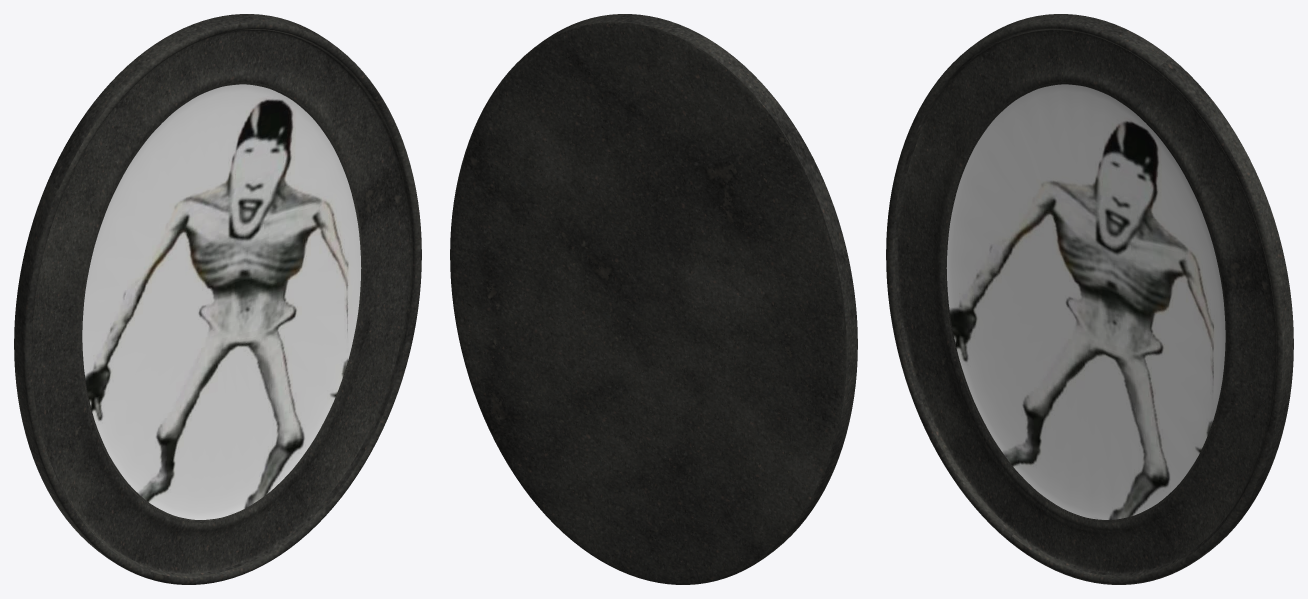
Rendered from A_PZ_PICTURE3_.fbx.
3 views of the same model, side by side, from view 1: azimuth 30°, elevation 25°; view 2: azimuth 150°, elevation 25°; view 3: azimuth 330°, elevation 25° (orthographic).
Visible parts, largest first — view 1: PZ_PICTURE3*; view 2: PZ_PICTURE3*; view 3: PZ_PICTURE3*.
Boxes of the visible parts, left/top/right/bottom form: PZ_PICTURE3*: left=14, top=14, right=421, bottom=584; PZ_PICTURE3*: left=450, top=14, right=857, bottom=584; PZ_PICTURE3*: left=886, top=14, right=1293, bottom=584.
Bounding box in the file's own units: 74.5 × 99.34 × 4.01.
